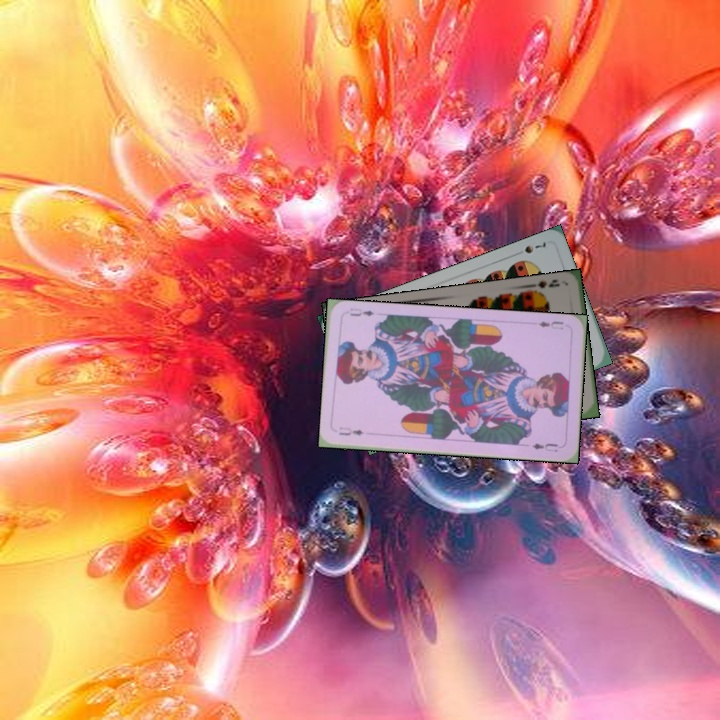EU: (534, 317, 566, 332), (335, 424, 366, 438)
S7: (511, 238, 549, 258)
S9: (525, 275, 562, 299)
